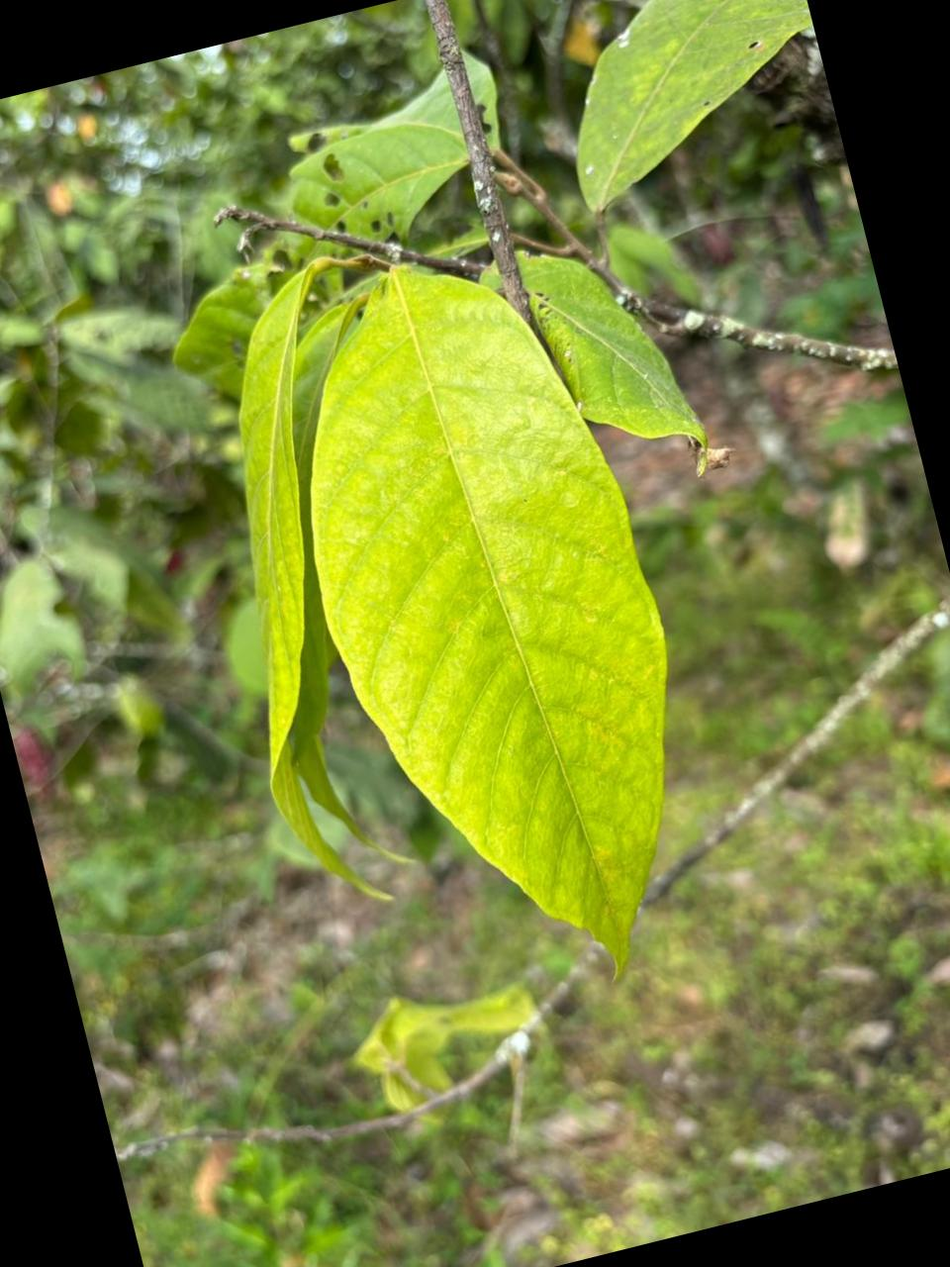Nitrogeno: (312, 269, 666, 970)
